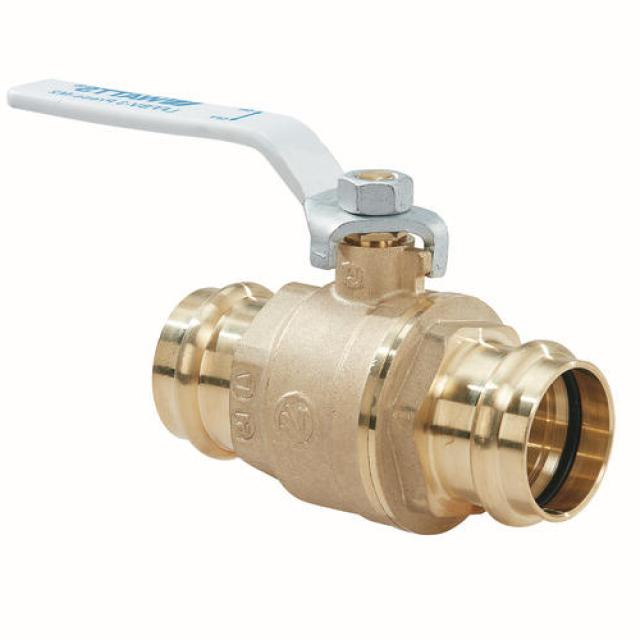Lever Handle Valve Threaded: (11, 63, 622, 304)
